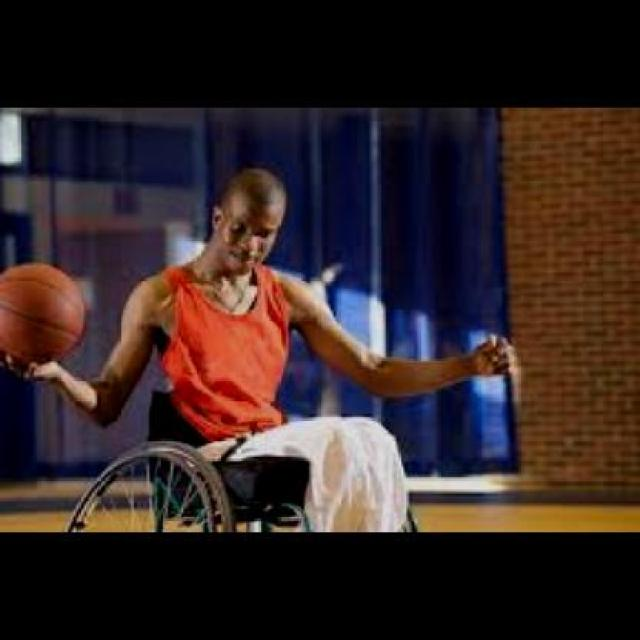wheelchairs: (55, 346, 428, 532)
